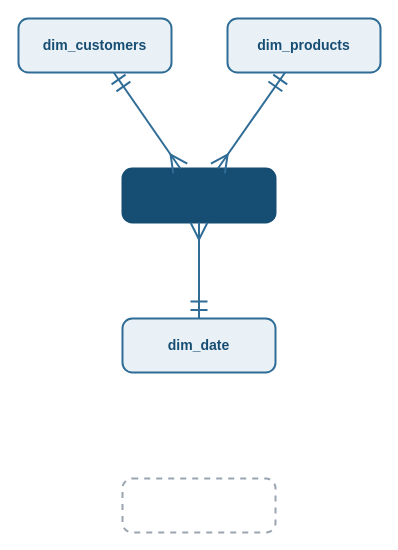
Some shapes in this 398 by 550 pixel diagram are drawn without their labels. The shapes that lost their labels are listed below. From the top down, each one's centre as x and y in pixels, then its label:
At point (198, 195): "fact_sales".
At point (198, 505): "_Mesures".
